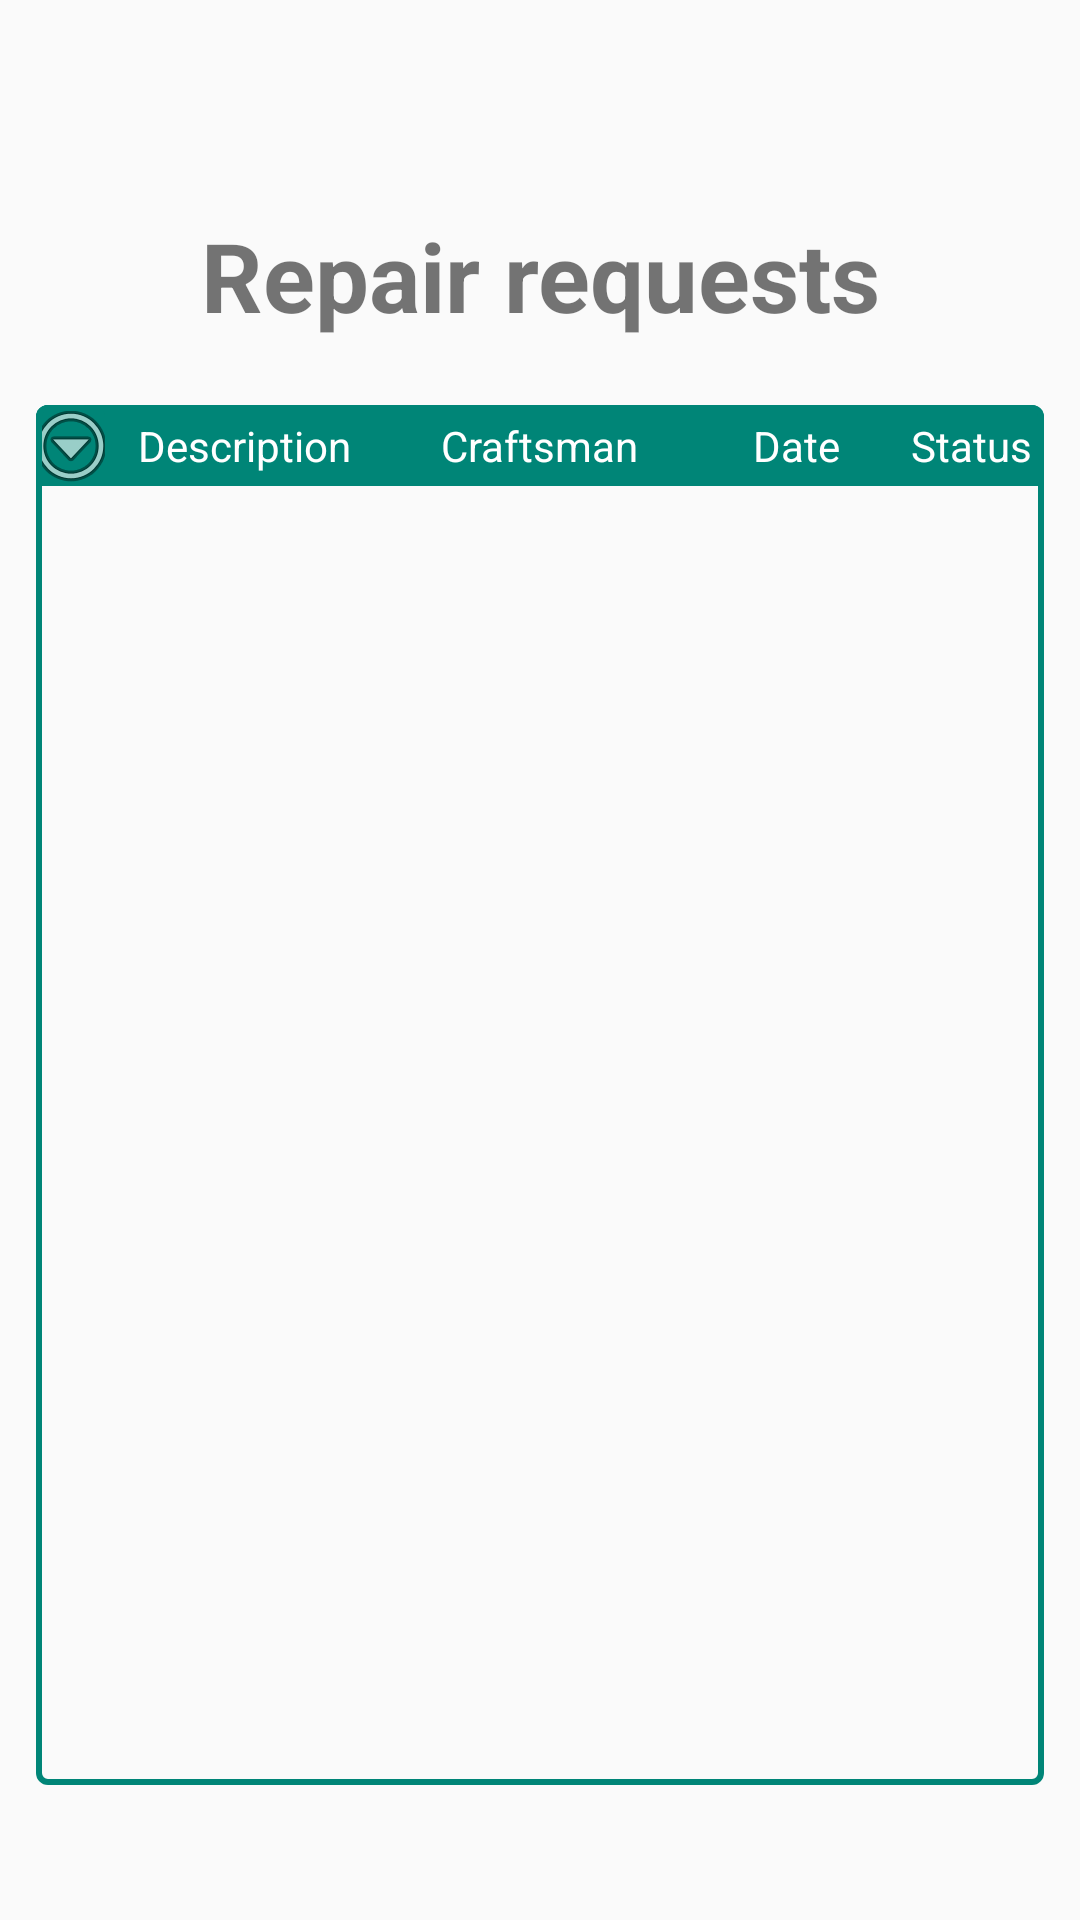

Named icons in this screenshot (1080 × 1920) and their centers, (x=x, y=y):
more: (x=70, y=445)
